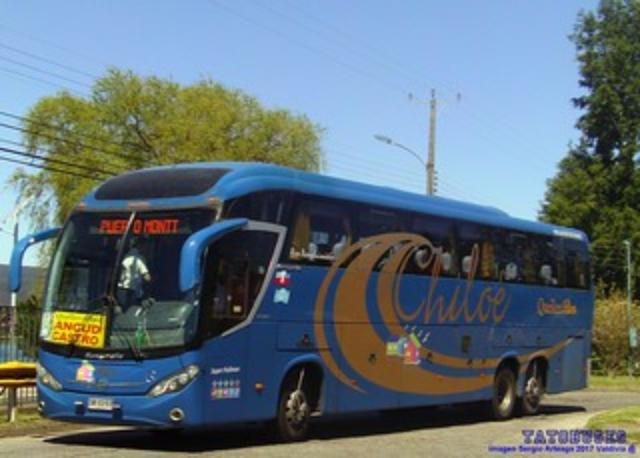bus: (34, 160, 596, 442)
